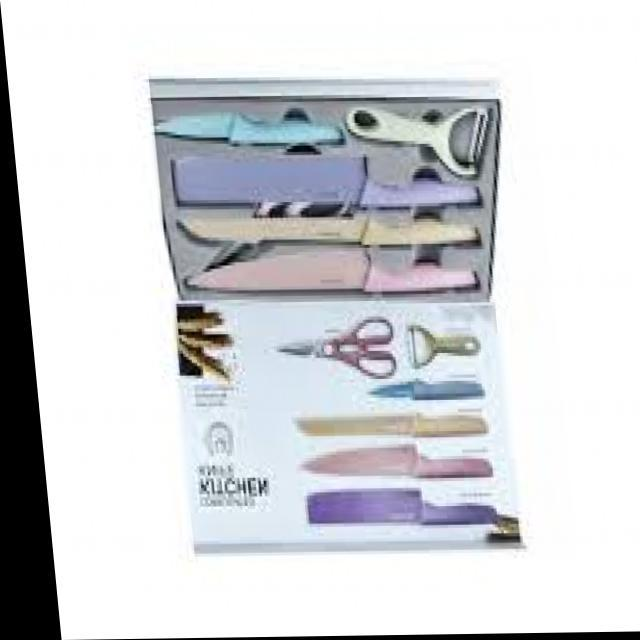knife: (173, 156, 479, 210), (187, 252, 478, 292), (176, 215, 479, 245), (306, 486, 497, 529), (299, 443, 494, 481), (154, 109, 346, 146), (292, 413, 488, 438), (368, 376, 487, 399)
